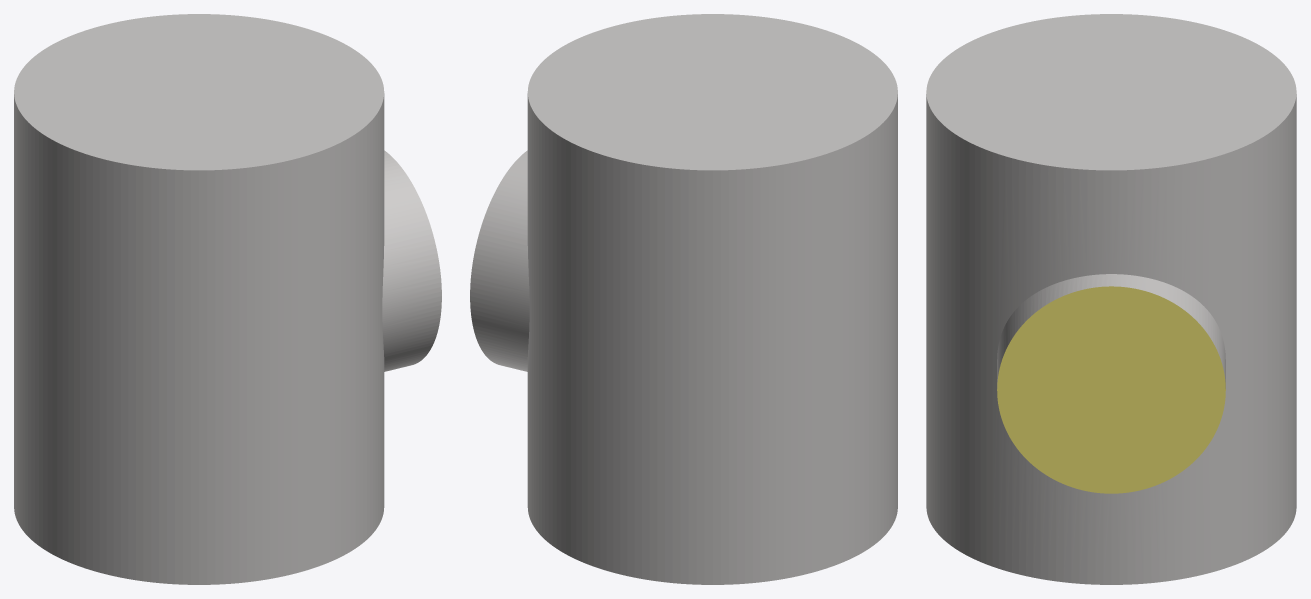
The model's file is middle_base.dae.
3 renders of one model, left to right at view 1: azimuth 30°, elevation 25°; view 2: azimuth 150°, elevation 25°; view 3: azimuth 270°, elevation 25°, orthographic.
Visible parts, largest first — view 1: MiddleBase; view 2: MiddleBase; view 3: MiddleBase.
Part boxes in pixels (box(x1,y1,x2,y2)): MiddleBase: box(14, 14, 441, 584); MiddleBase: box(470, 14, 897, 584); MiddleBase: box(926, 14, 1296, 584).
Size of the model in its own units: 0.2143 by 0.1986 by 0.2454.
Materials: 2 (2 with a texture image).
